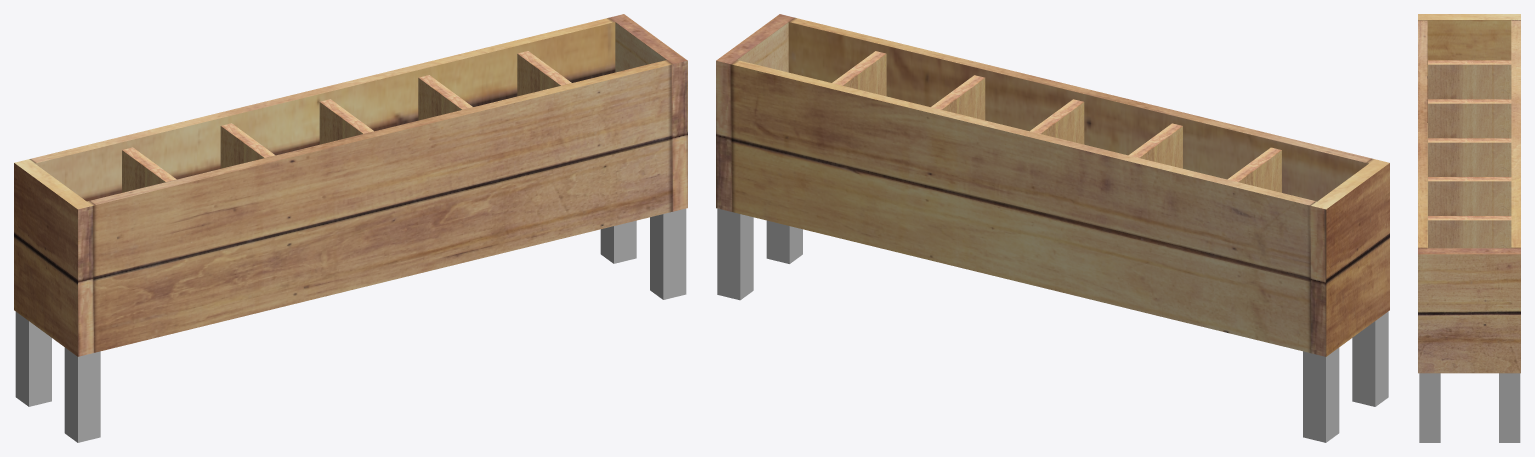
Rendered from Garden Bed 6.fbx.
The picture shows the model from 3 angles, left to right: view 1: azimuth 30°, elevation 25°; view 2: azimuth 150°, elevation 25°; view 3: azimuth 270°, elevation 25°; orthographic projection. The views are drawn at different scales.
Parts seen in each view (by area): view 1: Garden_Bed_4:pCube7; view 2: Garden_Bed_4:pCube7; view 3: Garden_Bed_4:pCube7.
Boxes of the visible parts, <box> form: Garden_Bed_4:pCube7: <box>14,14,687,442</box>; Garden_Bed_4:pCube7: <box>716,14,1389,442</box>; Garden_Bed_4:pCube7: <box>1418,14,1520,442</box>.
Bounding box in the file's own units: 253 × 92.83 × 45.82.
